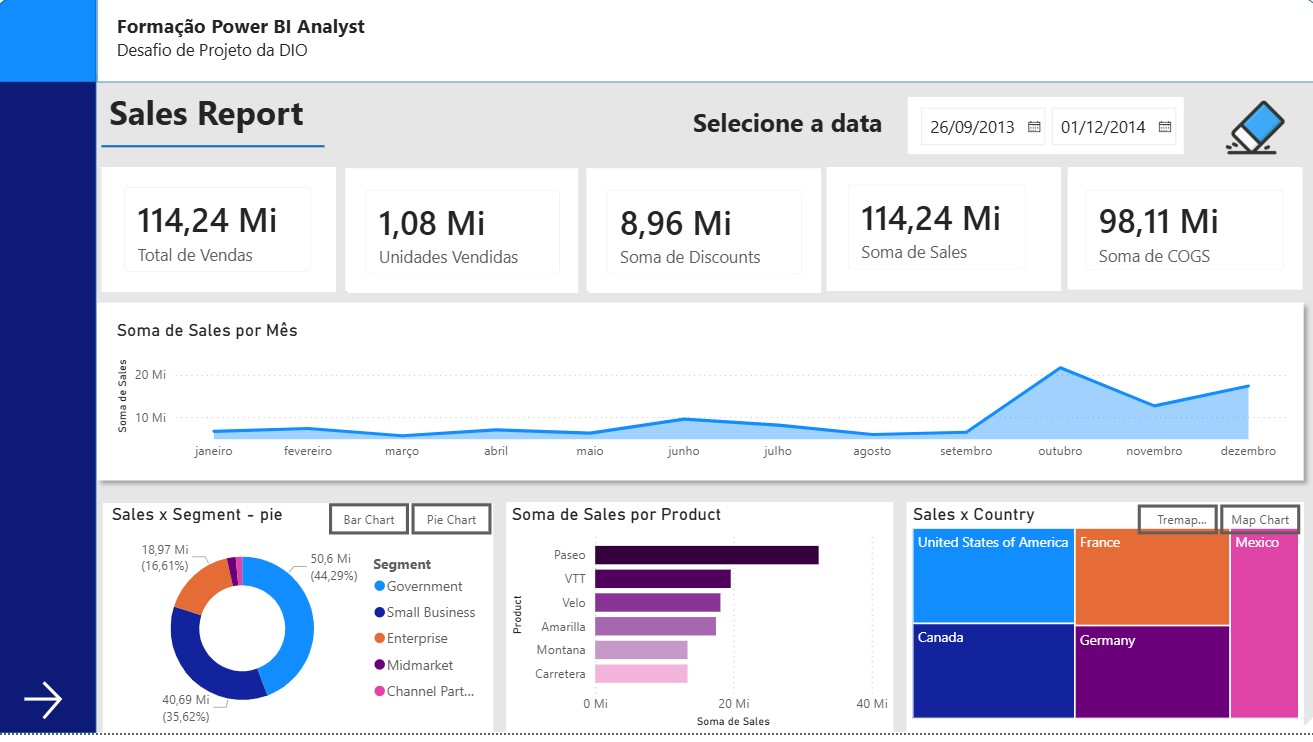

The dashboard page shown, as its layout file describes it:
{"tool":"powerbi","page":{"name":"Página 1","canvas":[1280,720],"ordinal":0},"visuals":[{"type":"shape","box":[0,8.9,1280,710.8],"z":0},{"type":"image","title":"Clean","box":[1182.5,95,70,79.6],"z":0,"group":"g2"},{"type":"shape","box":[104.1,106.9,215.2,92.7],"z":0,"group":"g5"},{"type":"shape","box":[104,174,226.6,121.2],"z":0,"group":"g1"},{"type":"donutChart","title":"Sales x Segment - pie","fields":{"Category":["financials.Segment"],"Y":["Sum(financials.Sales)"]},"box":[108.5,498.1,371.5,222.6],"z":0,"group":"g4"},{"type":"shape","box":[0,9.7,98.9,710.6],"z":1000},{"type":"textbox","box":[107,94.1,300.8,58.4],"z":1000,"group":"g5"},{"type":"slicer","fields":{"Values":["financials.Date"]},"box":[881.7,105.7,266.8,54.9],"z":1000,"group":"g2"},{"type":"shape","box":[339.3,175.3,225.1,118.3],"z":1000,"group":"g1"},{"type":"treemap","title":"Sales x Country","fields":{"Group":["financials.Country"],"Values":["Sum(financials.Sales)"]},"box":[882.1,498.1,382.6,212.9],"z":1000,"group":"g3"},{"type":"actionButton","title":"Botão - map","box":[1183.5,499.5,77.2,29],"z":1500,"group":"g3"},{"type":"shape","box":[0,9.6,98.8,82.3],"z":2000},{"type":"textbox","box":[669.6,109.3,203.1,52.1],"z":2000,"group":"g2"},{"type":"shape","box":[571.6,175.3,226.6,118.3],"z":2000,"group":"g1"},{"type":"actionButton","title":"Botão - bar","box":[323.3,498.3,77.2,30.2],"z":2000,"group":"g4"},{"type":"actionButton","title":"Botão - tremap","box":[1103.9,499.5,77.2,29],"z":2000,"group":"g3"},{"type":"shape","box":[98.4,10,1181.6,82.7],"z":3000},{"type":"actionButton","box":[1182.3,103.8,68.8,60.3],"z":3000,"group":"g2"},{"type":"shape","box":[804,173.9,226.6,119.7],"z":3000,"group":"g1"},{"type":"actionButton","title":"Botão - pie","box":[402.9,498.3,77.2,30.2],"z":3000,"group":"g4"},{"type":"textbox","box":[113.9,19.2,286.8,63.1],"z":4000},{"type":"shape","box":[1036.3,173.9,226.6,118.3],"z":4000,"group":"g1"},{"type":"group","id":"g1","title":"Cartões","box":[104,173.9,1158.9,121.3],"z":5000},{"type":"cardVisual","fields":{"Data":["Sum(financials.Sales)"]},"box":[108.3,176.8,215.2,116.9],"z":5000,"group":"g1"},{"type":"cardVisual","fields":{"Data":["Sum(financials.Units Sold)"]},"box":[342.1,178.2,222.4,116.9],"z":6000,"group":"g1"},{"type":"shape","box":[90.5,295.6,1182.3,189.4],"z":6000},{"type":"cardVisual","fields":{"Data":["Sum(financials.Discounts)"]},"box":[574.4,178.2,223.8,116.9],"z":7000,"group":"g1"},{"type":"shape","box":[494.6,497.5,373.5,222.4],"z":7000},{"type":"cardVisual","fields":{"Data":["Sum(financials.Sales)"]},"box":[806.8,173.9,206.7,116.9],"z":8000,"group":"g1"},{"type":"shape","box":[880.9,497.5,383.4,222.4],"z":8000},{"type":"cardVisual","fields":{"Data":["Sum(financials.COGS)"]},"box":[1036.2,178.2,226.6,112.6],"z":9000,"group":"g1"},{"type":"areaChart","fields":{"Category":["financials.Date.Variation.Hierarquia de datas.Mês"],"Y":["Sum(financials.Sales)"]},"box":[113.4,320.9,1138.9,144.8],"z":9000},{"type":"clusteredBarChart","fields":{"Category":["financials.Product"],"Y":["Sum(financials.Sales)"]},"box":[495.2,497.7,372.6,222.1],"z":10000},{"type":"group","id":"g2","title":"Filtro por data","box":[669.6,95,582.9,79.6],"z":11000},{"type":"group","id":"g3","title":"Sales x País","box":[882.1,498.1,382.6,221.2],"z":12000},{"type":"clusteredBarChart","title":"Sales x Segment","fields":{"Y":["Sum(financials.Sales)"],"Category":["financials.Segment"]},"box":[104.6,497.7,376.5,222.1],"z":13000},{"type":"group","id":"g4","title":"Sales x Segmento","box":[106.9,497.5,373.5,223.2],"z":14000},{"type":"group","id":"g5","title":"Title Report","box":[104.1,94.1,303.6,105.5],"z":15000},{"type":"actionButton","box":[22.3,664.3,68.4,47.4],"z":16000}]}

Visuals, with their boxes on the page's 1280x720 design canvas (x1, y1, x2, y2). These are canvas units, not pixel positions in the 1313x742 screenshot, which may show the page scaled, cropped or inside an application window:
shape: rect(0, 9, 1280, 720)
"Clean" image: rect(1182, 95, 1252, 175)
shape: rect(104, 107, 319, 200)
shape: rect(104, 174, 331, 295)
"Sales x Segment - pie" donutChart: rect(108, 498, 480, 721)
shape: rect(0, 10, 99, 720)
textbox: rect(107, 94, 408, 152)
slicer - financials.Date: rect(882, 106, 1148, 161)
shape: rect(339, 175, 564, 294)
"Sales x Country" treemap: rect(882, 498, 1265, 711)
"Botão - map" actionButton: rect(1184, 500, 1261, 528)
shape: rect(0, 10, 99, 92)
textbox: rect(670, 109, 873, 161)
shape: rect(572, 175, 798, 294)
"Botão - bar" actionButton: rect(323, 498, 400, 528)
"Botão - tremap" actionButton: rect(1104, 500, 1181, 528)
shape: rect(98, 10, 1280, 93)
actionButton: rect(1182, 104, 1251, 164)
shape: rect(804, 174, 1031, 294)
"Botão - pie" actionButton: rect(403, 498, 480, 528)
textbox: rect(114, 19, 401, 82)
shape: rect(1036, 174, 1263, 292)
"Cartões" group: rect(104, 174, 1263, 295)
cardVisual - Sum(financials.Sales): rect(108, 177, 324, 294)
cardVisual - Sum(financials.Units Sold): rect(342, 178, 564, 295)
shape: rect(90, 296, 1273, 485)
cardVisual - Sum(financials.Discounts): rect(574, 178, 798, 295)
shape: rect(495, 498, 868, 720)
cardVisual - Sum(financials.Sales): rect(807, 174, 1014, 291)
shape: rect(881, 498, 1264, 720)
cardVisual - Sum(financials.COGS): rect(1036, 178, 1263, 291)
areaChart - financials.Date.Variation.Hierarquia de datas.Mês x Sum(financials.Sales): rect(113, 321, 1252, 466)
clusteredBarChart - financials.Product x Sum(financials.Sales): rect(495, 498, 868, 720)
"Filtro por data" group: rect(670, 95, 1252, 175)
"Sales x País" group: rect(882, 498, 1265, 719)
"Sales x Segment" clusteredBarChart: rect(105, 498, 481, 720)
"Sales x Segmento" group: rect(107, 498, 480, 721)
"Title Report" group: rect(104, 94, 408, 200)
actionButton: rect(22, 664, 91, 712)
